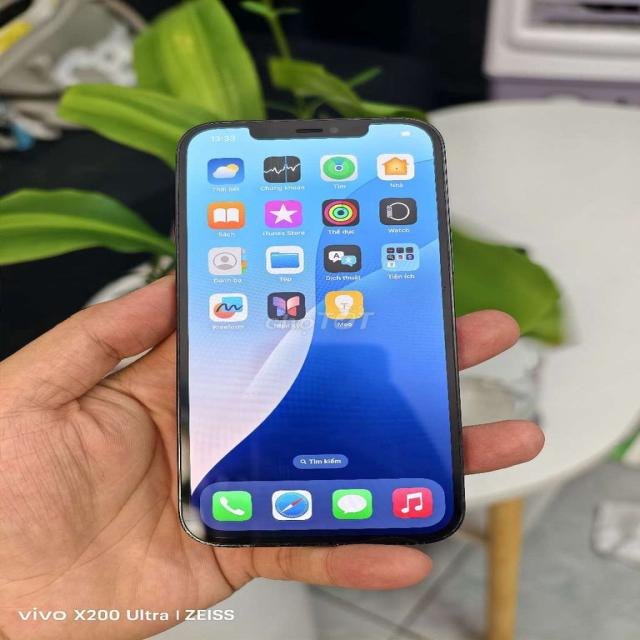gen_12_13: (173, 110, 469, 552)
